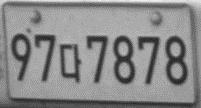7: (85, 35, 108, 83), (33, 33, 55, 82), (137, 36, 159, 85)
8: (164, 34, 188, 84), (112, 34, 135, 84)
9: (10, 32, 31, 81)
다: (59, 43, 82, 83)
